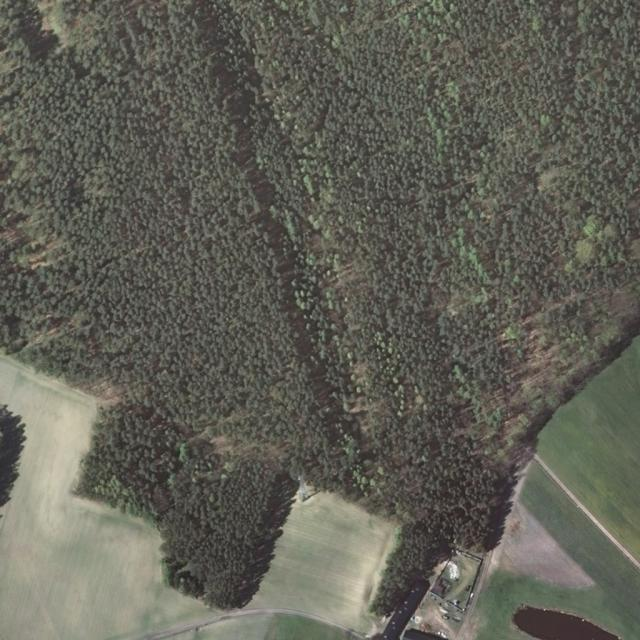agricultural_land: (0, 356, 220, 639), (0, 356, 162, 639), (149, 612, 362, 639)
greenland: (46, 391, 309, 622), (0, 405, 26, 506)
